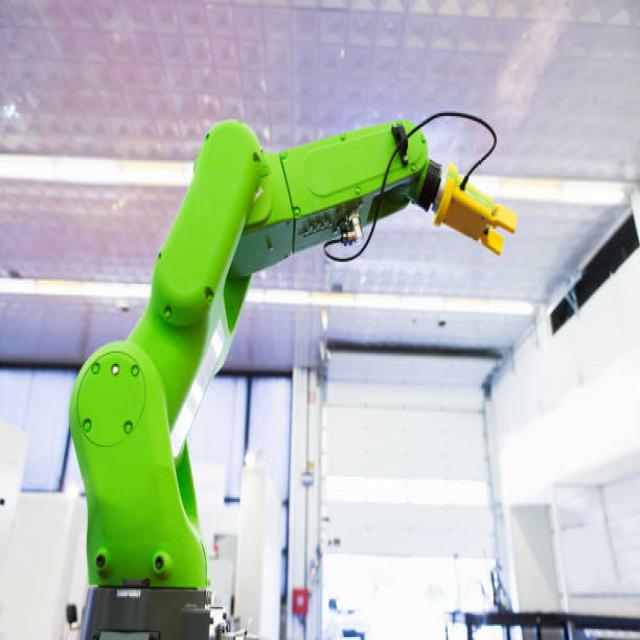Robotic-arm: (60, 97, 521, 640)
